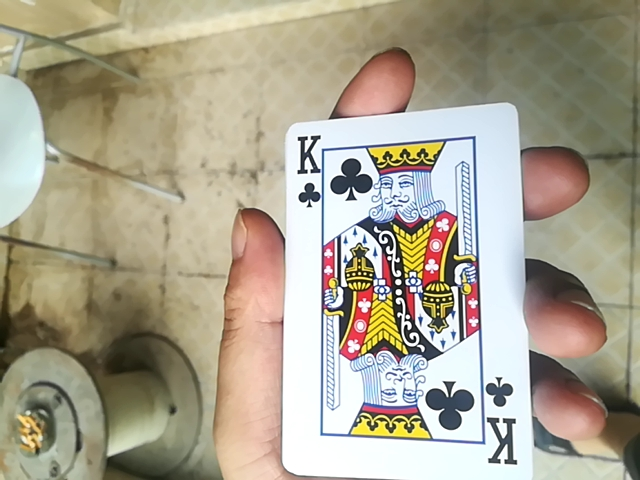mh k: (276, 92, 536, 480)
